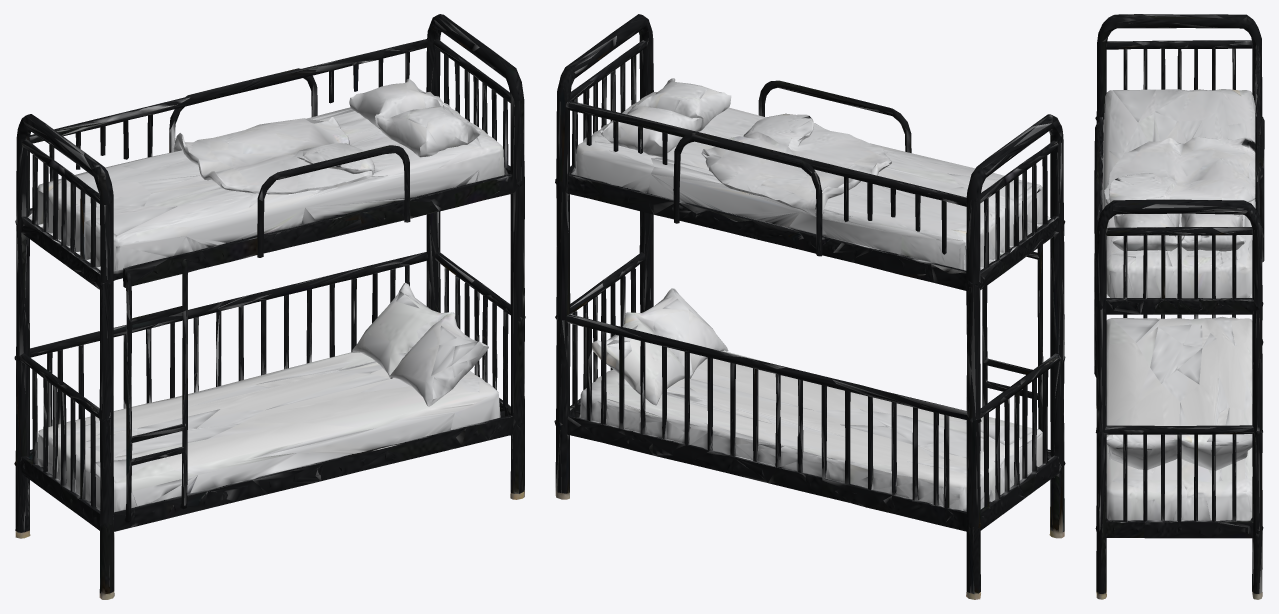
Rendered from mj-berth-iron-crew.glb.
The picture shows the model from 3 angles, left to right: view 1: azimuth 30°, elevation 25°; view 2: azimuth 150°, elevation 25°; view 3: azimuth 270°, elevation 25°; orthographic projection. The views are drawn at different scales.
Parts seen in each view (by area): view 1: mj-berth-iron-crew; view 2: mj-berth-iron-crew; view 3: mj-berth-iron-crew.
Part boxes in pixels (x1,y1,x2,y2): mj-berth-iron-crew: (14, 14, 525, 599); mj-berth-iron-crew: (554, 14, 1065, 599); mj-berth-iron-crew: (1094, 14, 1264, 599).
Bounding box in the file's own units: 1.88 × 1.8 × 0.7005.
1 material, 1 textured.
